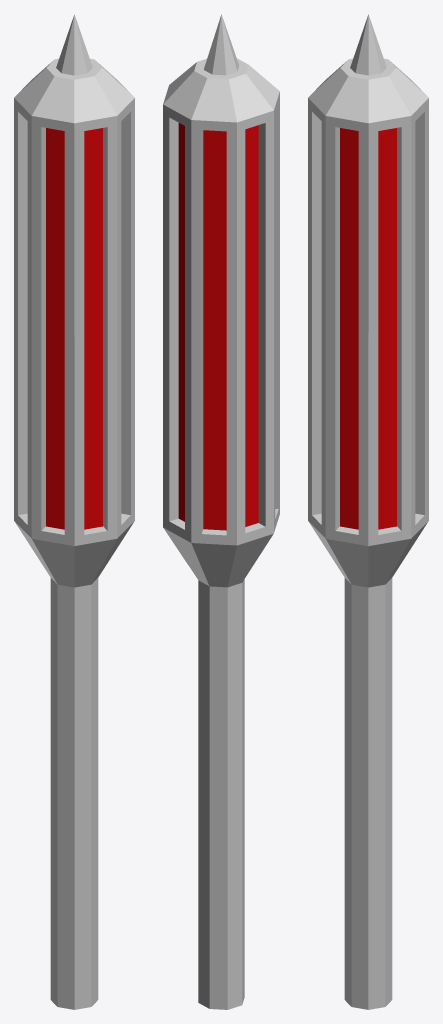
File: cudgel.fbx
3 views of the same model, side by side, from view 1: azimuth 90°, elevation 25°; view 2: azimuth 150°, elevation 25°; view 3: azimuth 270°, elevation 25° (orthographic).
Parts seen in each view (by area): view 1: Cylinder; view 2: Cylinder; view 3: Cylinder.
Boxes of the visible parts, x1,y1,x2,y2 form: Cylinder: [14, 14, 134, 1009]; Cylinder: [163, 14, 279, 1009]; Cylinder: [308, 14, 428, 1009].
Size of the model in its own units: 112 by 1005 by 112.
